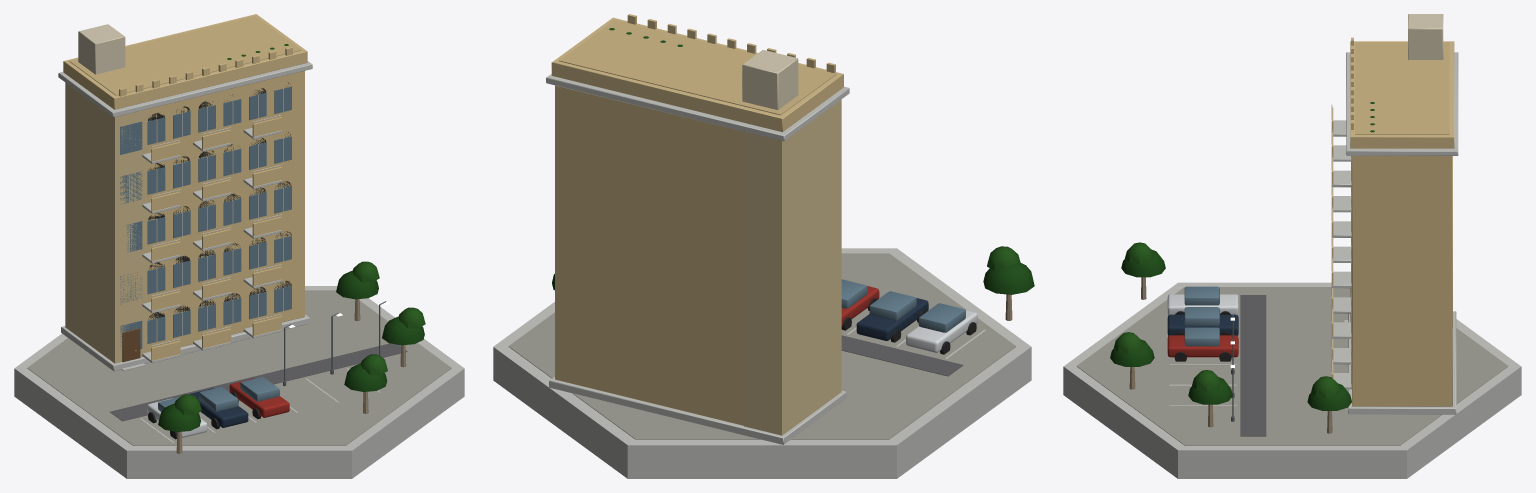
Rendered from apartments_arab.glb.
3 renders of one model, left to right at view 1: azimuth 30°, elevation 25°; view 2: azimuth 150°, elevation 25°; view 3: azimuth 270°, elevation 25°, orthographic. The views are drawn at different scales.
Visible parts, largest first — view 1: plaster, pavers, wall_concrete, paint, glass, leaf, asphalt, dark, wood, metal; view 2: plaster, paint, wall_concrete, pavers, glass, leaf, asphalt; view 3: plaster, pavers, wall_concrete, leaf, asphalt, paint, glass, wood.
Boxes of the visible parts, <box> form: plaster: <box>63,14,307,360</box>; pavers: <box>27,290,451,445</box>; wall_concrete: <box>14,61,464,478</box>; paint: <box>65,82,289,437</box>; glass: <box>120,86,291,411</box>; leaf: <box>158,44,425,432</box>; asphalt: <box>110,343,407,421</box>; dark: <box>148,82,291,439</box>; wood: <box>122,299,406,453</box>; metal: <box>152,115,281,345</box>; plaster: <box>551,14,843,425</box>; paint: <box>744,99,977,435</box>; wall_concrete: <box>493,74,1031,478</box>; pavers: <box>508,253,1016,439</box>; glass: <box>841,279,965,332</box>; leaf: <box>552,28,1034,294</box>; asphalt: <box>841,335,963,376</box>; plaster: <box>1331,14,1454,406</box>; pavers: <box>1076,287,1508,445</box>; wall_concrete: <box>1063,52,1521,478</box>; leaf: <box>1110,102,1374,410</box>; asphalt: <box>1240,295,1266,436</box>; paint: <box>1167,156,1452,357</box>; glass: <box>1184,156,1351,387</box>; wood: <box>1129,277,1350,433</box>.
Bounding box in the file's own units: 21.3 × 20.04 × 24.6.
